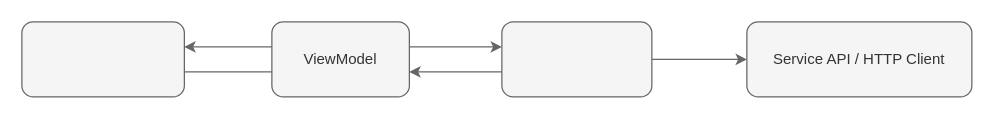
Image size: 994x119. Some labels were removed from this diagram. Here are the shapes that lost their labels. From the top down, the centre of each, then its label:
At (x=102, y=59): "Views".
At (x=576, y=59): "Models".
